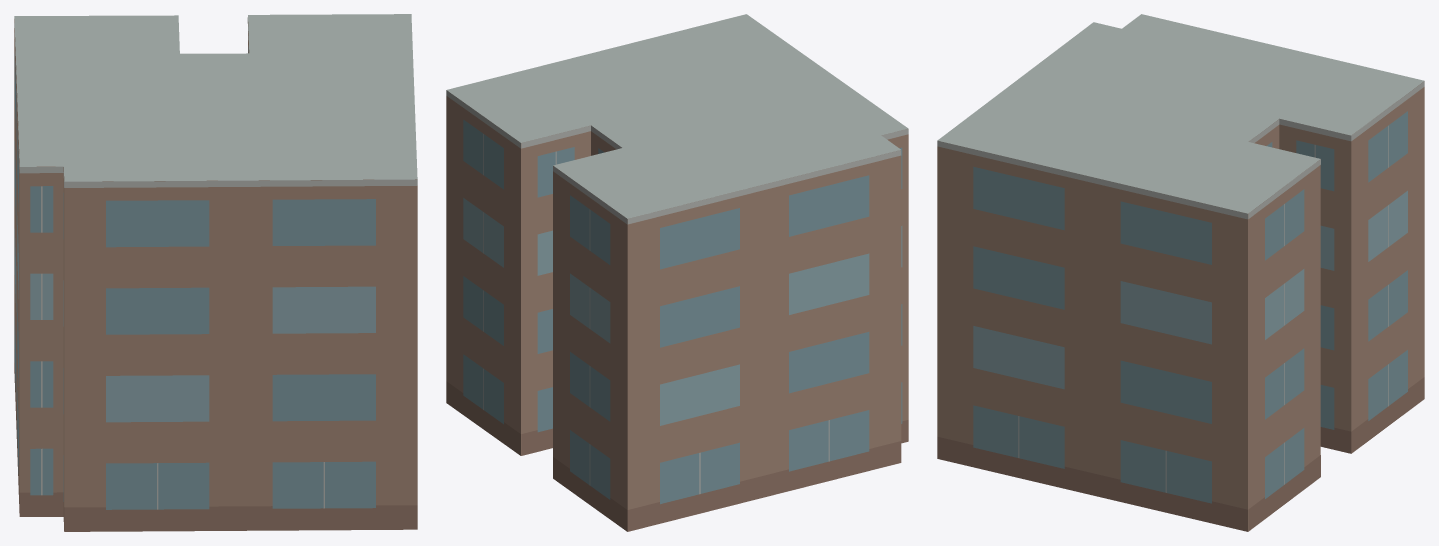
The model's file is survey-upis-32983123.glb.
3 renders of one model, left to right at view 1: azimuth 30°, elevation 25°; view 2: azimuth 150°, elevation 25°; view 3: azimuth 270°, elevation 25°, orthographic. The views are drawn at different scales.
Parts seen in each view (by area): view 1: survey-upis-32983123.tmp; view 2: survey-upis-32983123.tmp; view 3: survey-upis-32983123.tmp.
Boxes of the visible parts, bbox=[...] form: survey-upis-32983123.tmp: bbox=[14, 14, 417, 531]; survey-upis-32983123.tmp: bbox=[446, 14, 908, 531]; survey-upis-32983123.tmp: bbox=[937, 14, 1424, 531].
Size of the model in its own units: 18.05 by 13.4 by 18.61.
